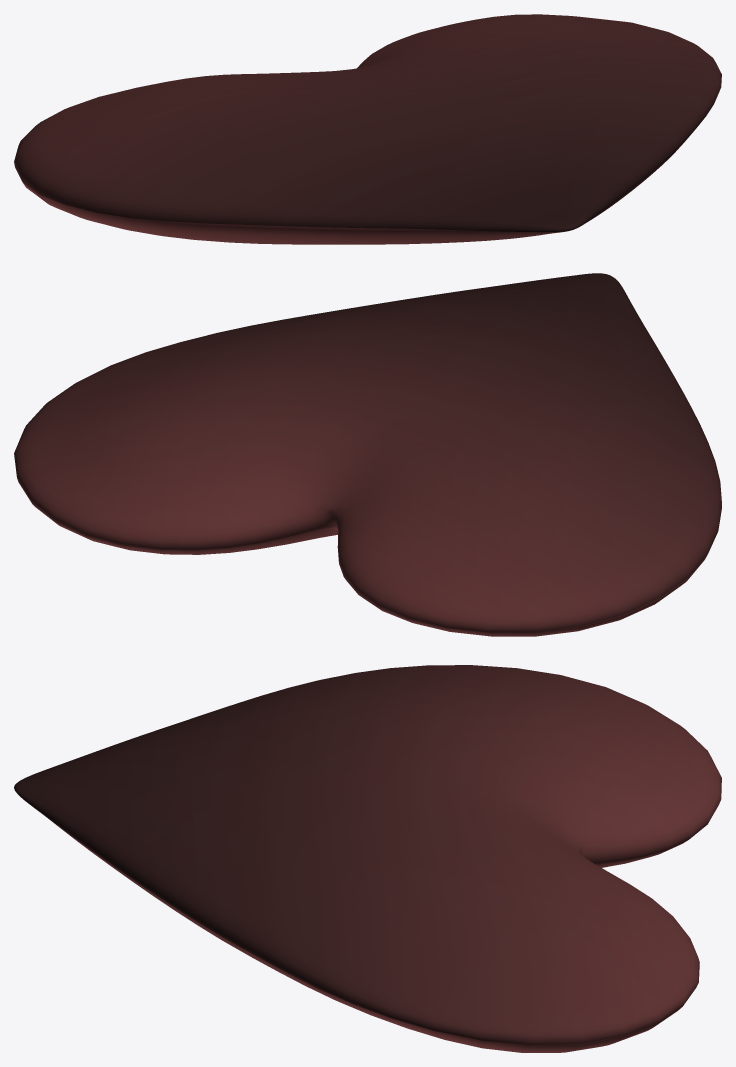
File: heart.glb
The picture shows the model from 3 angles, top to bottom: view 1: azimuth 30°, elevation 25°; view 2: azimuth 150°, elevation 25°; view 3: azimuth 270°, elevation 25°; orthographic projection. The views are drawn at different scales.
Parts seen in each view (by area): view 1: cc_t_heart1; view 2: cc_t_heart1; view 3: cc_t_heart1.
Boxes of the visible parts, x1,y1,x2,y2 form: cc_t_heart1: (14, 14, 721, 244); cc_t_heart1: (14, 273, 721, 636); cc_t_heart1: (14, 665, 721, 1052).
Size of the model in its own units: 0.1195 by 0.0255 by 0.1021.
Materials: 1 (1 with a texture image).
